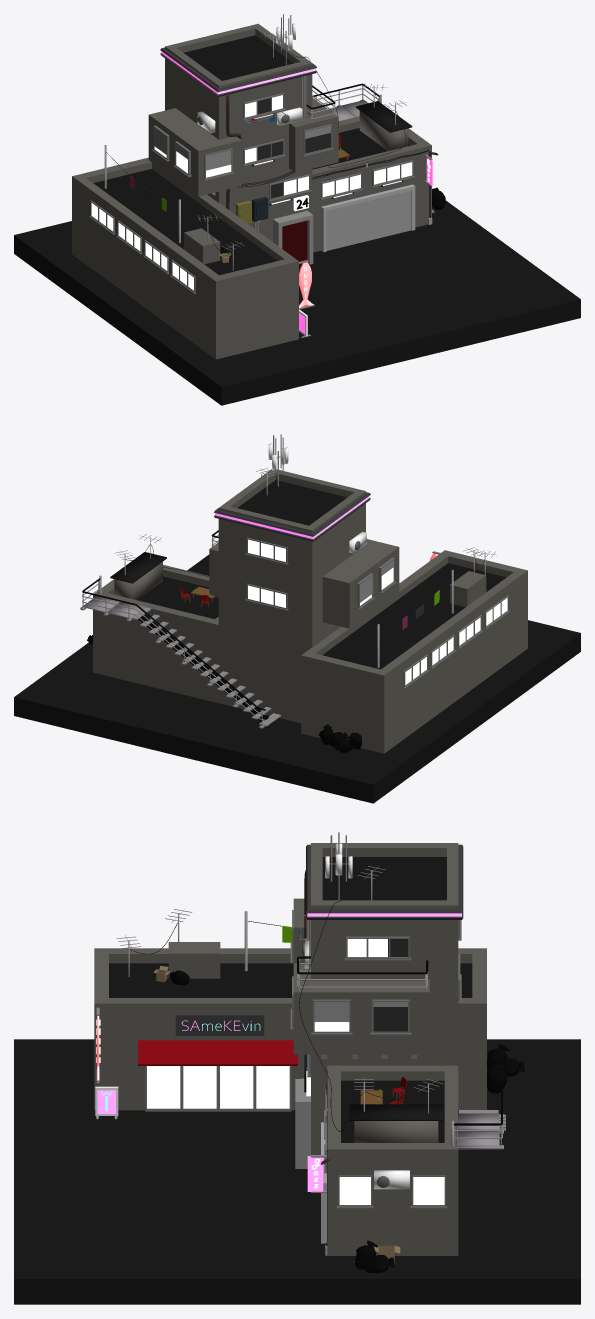
Rendered from Building.gltf.
The picture shows the model from 3 angles, top to bottom: view 1: azimuth 30°, elevation 25°; view 2: azimuth 150°, elevation 25°; view 3: azimuth 270°, elevation 25°; orthographic projection. The views are drawn at different scales.
Parts seen in each view (by area): view 1: House_Base, Ground, Window, Garage, TinyHouse, Door, Rollo, Power_Cube, Metal_Tubes, Airconditionor, Cabel_2, Stair; view 2: House_Base, Ground, Window, TinyHouse, Stairccase, Stair, Rubbish, Stair_Tubes_Small, Metal_Tubes, Stair_Tube_B, 5G_Tower; view 3: Ground, House_Base, Window, Shop, TinyHouse, Rubbish, Stair, Shild, Door, Metal_Tubes, Airconditionor, Rollo (+3 smaller).
Part boxes in pixels (x1,y1,x2,y2): House_Base: (72,23,431,359); Ground: (14,200,580,405); Window: (89,93,414,293); Garage: (321,184,415,252); TinyHouse: (184,101,412,264); Door: (273,210,313,264); Rollo: (154,126,330,170); Power_Cube: (236,149,432,224); Metal_Tubes: (104,32,406,270); Airconditionor: (197,107,302,133); Cabel_2: (237,149,430,217); Stair: (315,85,381,121); House_Base: (93,469,527,753); Ground: (14,554,580,803); Window: (245,537,510,688); TinyHouse: (110,552,486,606); Stairccase: (131,607,281,728); Stair: (80,575,262,726); Rubbish: (87,635,361,753); Stair_Tubes_Small: (82,535,265,720); Metal_Tubes: (115,468,496,667); Stair_Tube_B: (82,530,265,710); 5G_Tower: (268,434,288,486); Ground: (14,1039,580,1304); House_Base: (94,843,486,1255); Window: (145,910,461,1208); Shop: (138,1015,297,1065); TinyHouse: (168,942,442,1142); Rubbish: (169,970,524,1272); Stair: (451,1113,503,1149); Shild: (95,1007,326,1192); Door: (295,1079,310,1168); Metal_Tubes: (116,866,443,1113); Airconditionor: (302,938,409,1189); Rollo: (314,1002,407,1021).
Bounding box in the file's own units: 7.7 × 5.27 × 7.7.
